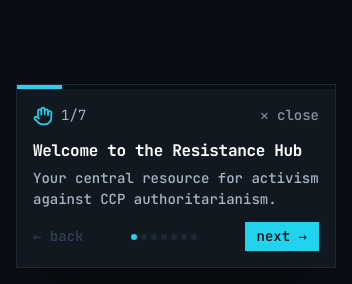
Test case: QuickStartGuide › goes back to previous step
What coordinates should you click on to do the following:
click the button "next →"
I would click on:
 (282, 236)
Its box is [245,222,319,251].
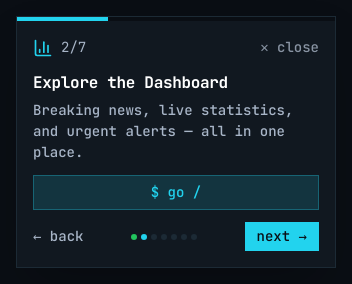
Expected: the text "2/7" is shown, [61,37,86,58]
What coordinates should you click on to do the following:
click the button "← back"
I would click on:
 (58, 236)
Its box is [33,226,83,247].
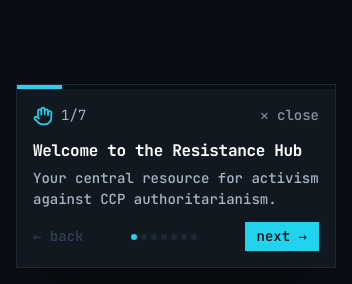
Expected: the text "1/7" is shown, [61,105,86,126]
